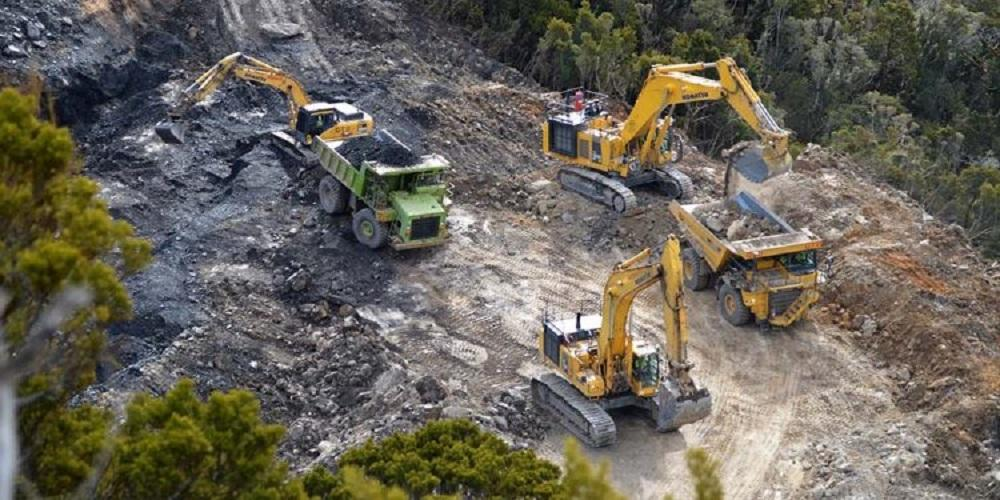ExcavationMachinery: (539, 56, 795, 216), (531, 231, 715, 450), (152, 54, 375, 161), (668, 189, 825, 327), (317, 129, 448, 260)
